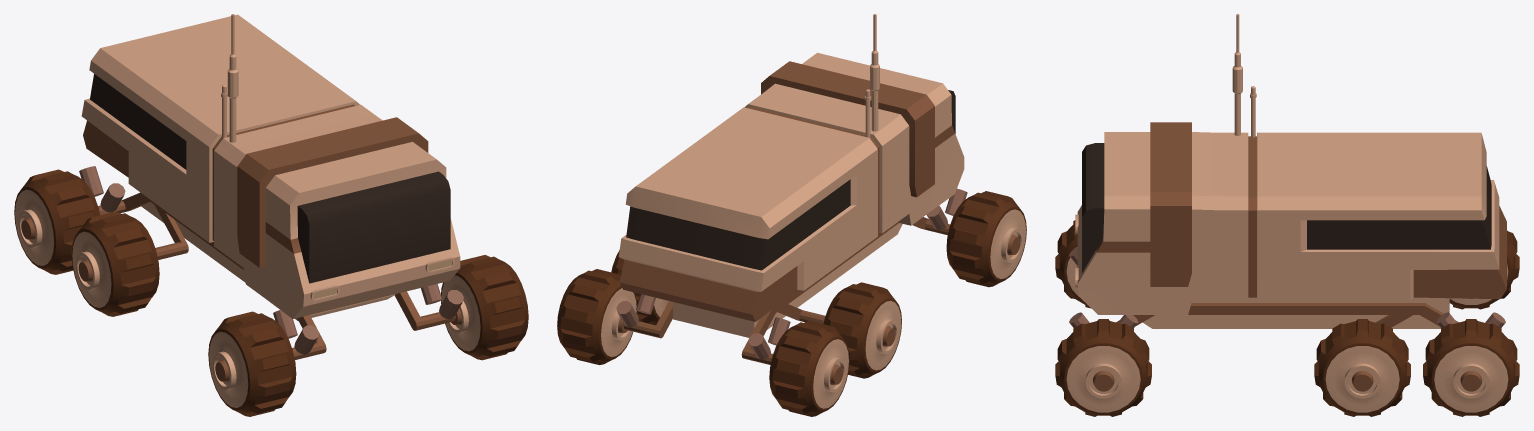
File: quaternius-ultimate-space-pack-rover-2-transformed.glb
3 views of the same model, side by side, from view 1: azimuth 30°, elevation 25°; view 2: azimuth 150°, elevation 25°; view 3: azimuth 270°, elevation 25° (orthographic). The views are drawn at different scales.
Parts seen in each view (by area): view 1: Wheel_1; view 2: Wheel_1; view 3: Wheel_1.
Part boxes in pixels (<box>): Wheel_1: <box>14,14,528,416</box>; Wheel_1: <box>557,14,1026,416</box>; Wheel_1: <box>1055,14,1519,416</box>.
Size of the model in its own units: 4.58 by 4.88 by 6.56.
1 material, 1 textured.
